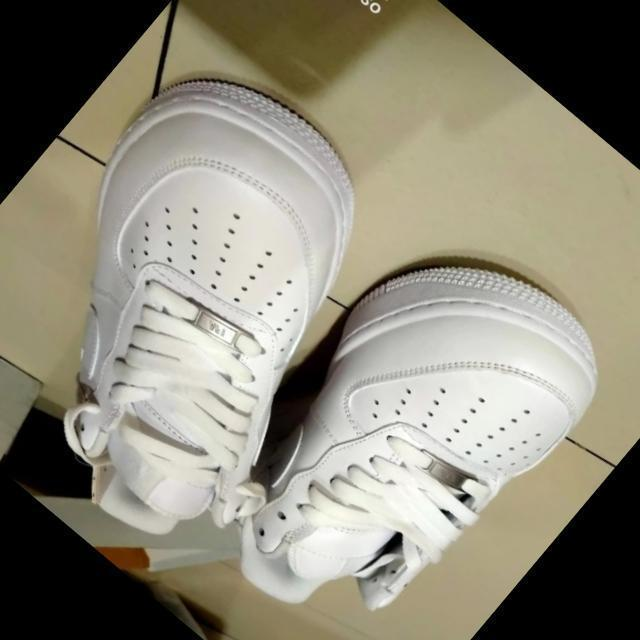nike original air force: (0, 32, 459, 579), (170, 197, 632, 640)
